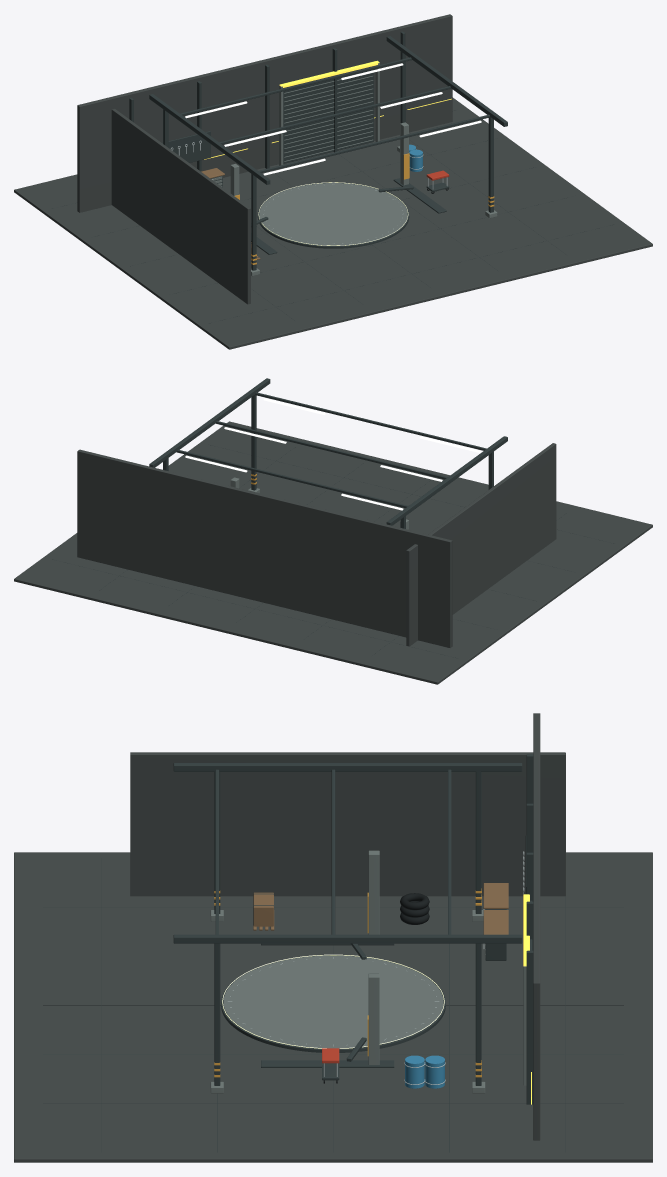
The model's file is workshop.glb.
The picture shows the model from 3 angles, top to bottom: view 1: azimuth 30°, elevation 25°; view 2: azimuth 150°, elevation 25°; view 3: azimuth 270°, elevation 25°; orthographic projection. The views are drawn at different scales.
Parts seen in each view (by area): view 1: Sealed concrete floor, Rear concrete wall, Left workshop wall, Turntable top, Loading bay door, Roof rail, Roof rail.001, Pegboard, Ceiling cross beam, Ceiling cross beam.001, Ceiling cross beam.002, Service platform (+4 smaller); view 2: Sealed concrete floor, Rear concrete wall, Left workshop wall, Roof rail, Roof rail.001, Ceiling cross beam.002, Ceiling cross beam, Ceiling cross beam.001, Structural I beam.003; view 3: Sealed concrete floor, Left workshop wall, Turntable top, Roof rail.001, Rear concrete wall, Roof rail, Service platform, Steel wall pier.004, Lift post.001, Lift post, Structural I beam.002, Structural I beam.003 (+8 smaller).
Boxes of the visible parts, x1,y1,x2,y2 form: Sealed concrete floor: [14, 97, 652, 349]; Rear concrete wall: [77, 14, 452, 212]; Left workshop wall: [111, 109, 250, 304]; Turntable top: [259, 183, 407, 245]; Loading bay door: [283, 66, 373, 163]; Roof rail: [149, 94, 270, 184]; Roof rail.001: [386, 36, 507, 126]; Pegboard: [162, 131, 210, 162]; Ceiling cross beam: [180, 57, 411, 115]; Ceiling cross beam.001: [219, 86, 450, 144]; Ceiling cross beam.002: [259, 114, 489, 172]; Service platform: [257, 182, 409, 248]; Sealed concrete floor: [14, 421, 652, 684]; Rear concrete wall: [77, 449, 452, 647]; Left workshop wall: [406, 443, 556, 646]; Roof rail: [386, 436, 507, 525]; Roof rail.001: [149, 378, 270, 467]; Ceiling cross beam.002: [255, 392, 486, 450]; Ceiling cross beam: [176, 449, 408, 507]; Ceiling cross beam.001: [216, 421, 447, 479]; Structural I beam.003: [251, 394, 256, 490]; Sealed concrete floor: [14, 852, 652, 1162]; Left workshop wall: [130, 752, 565, 896]; Turntable top: [223, 955, 443, 1048]; Roof rail.001: [173, 934, 522, 943]; Rear concrete wall: [533, 713, 540, 1140]; Roof rail: [173, 763, 522, 771]; Service platform: [221, 955, 445, 1052]; Steel wall pier.004: [526, 950, 533, 1104]; Lift post.001: [368, 973, 379, 1064]; Lift post: [368, 850, 379, 934]; Structural I beam.002: [475, 943, 481, 1085]; Structural I beam.003: [214, 943, 220, 1085].
Size of the model in its own units: 25 by 6.14 by 22.
